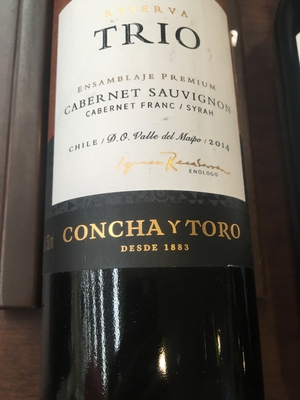trio cabernet sauvignon: (44, 5, 257, 388)
